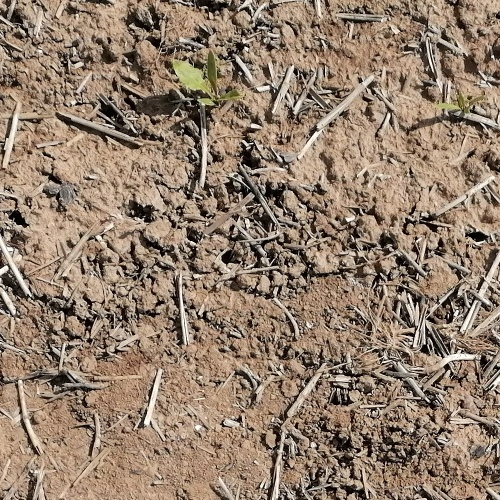beet: (170, 50, 240, 104), (435, 89, 488, 113)
